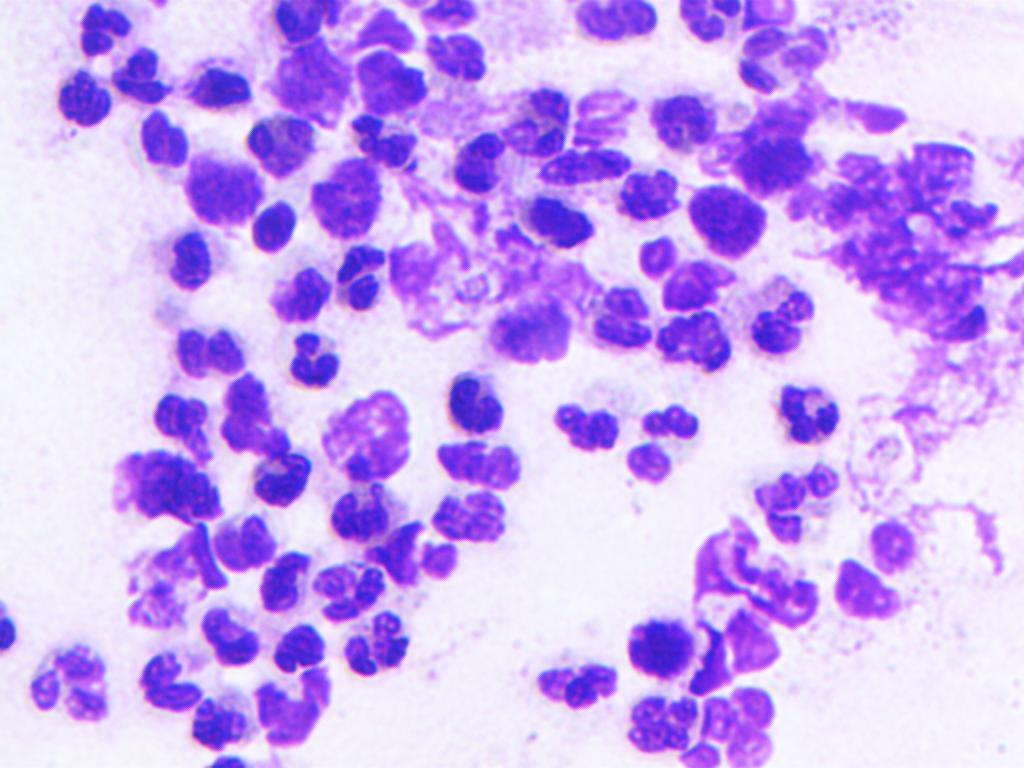artifact: (791, 120, 1013, 352), (400, 211, 586, 361), (682, 510, 820, 628), (571, 74, 642, 152), (726, 600, 784, 671)
neutrophil: (537, 374, 717, 490), (177, 142, 299, 244), (111, 524, 218, 632), (741, 460, 852, 552), (112, 441, 228, 524), (25, 629, 118, 732), (624, 611, 737, 693), (328, 378, 424, 473), (490, 72, 592, 160), (637, 231, 736, 314), (370, 504, 459, 596), (298, 148, 387, 239), (739, 268, 824, 356), (735, 20, 824, 104), (754, 374, 847, 454), (514, 184, 609, 258), (161, 316, 258, 388), (142, 225, 239, 296), (517, 651, 619, 718), (723, 129, 824, 196), (181, 42, 260, 124), (697, 687, 781, 764), (658, 303, 748, 374), (150, 388, 230, 466), (258, 241, 332, 325), (583, 280, 664, 356), (337, 100, 422, 170), (348, 49, 434, 118), (694, 182, 764, 266), (186, 596, 264, 670), (118, 638, 204, 705), (434, 430, 524, 494), (627, 684, 708, 754), (340, 612, 421, 680), (646, 86, 722, 158), (241, 440, 318, 510), (331, 234, 394, 318), (429, 367, 510, 432), (310, 558, 385, 624), (331, 484, 412, 542), (623, 162, 690, 230), (438, 484, 510, 546), (828, 572, 916, 621), (415, 28, 496, 80), (212, 512, 287, 568), (241, 111, 314, 168), (449, 130, 512, 196), (129, 96, 190, 162), (572, 3, 667, 44), (117, 56, 188, 110), (53, 68, 112, 132), (259, 540, 313, 607), (285, 331, 343, 393), (262, 4, 345, 47), (669, 0, 743, 44), (188, 686, 251, 734), (869, 518, 921, 576), (81, 0, 127, 63)
